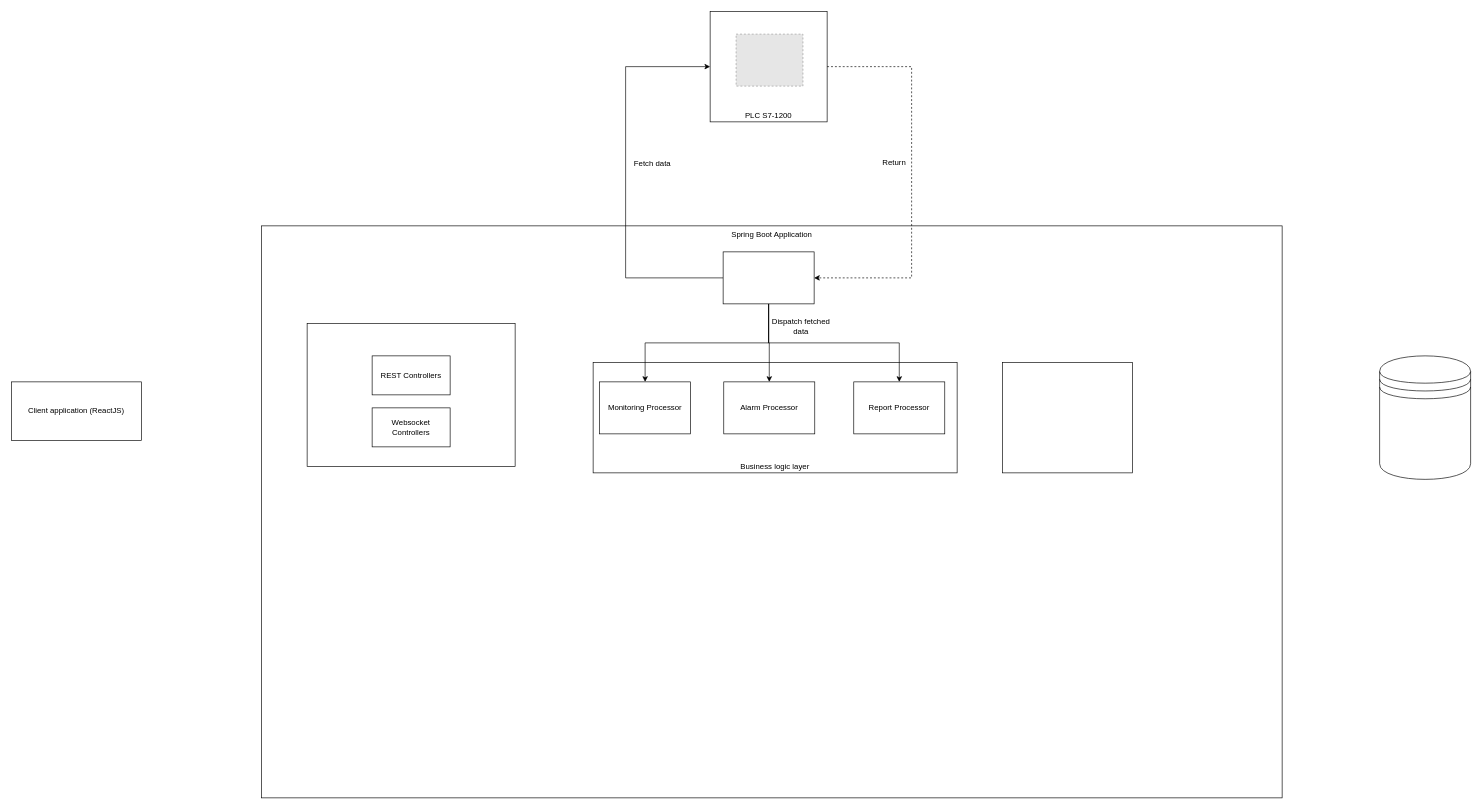
The diagram is 1482 pixels wide and 809 high, and some of its shapes have lost their labels. Grey dashed boxes stand in for pictures. The shapes that lost their labels are listed below. From the top down, each one's box as (x1, y1, x2, y2) in pixels, then its label:
(722, 251, 814, 304): PLC Integration layer
(306, 323, 515, 466): API layer
(1002, 362, 1133, 473): Data access layer
(1379, 355, 1471, 479): Database
